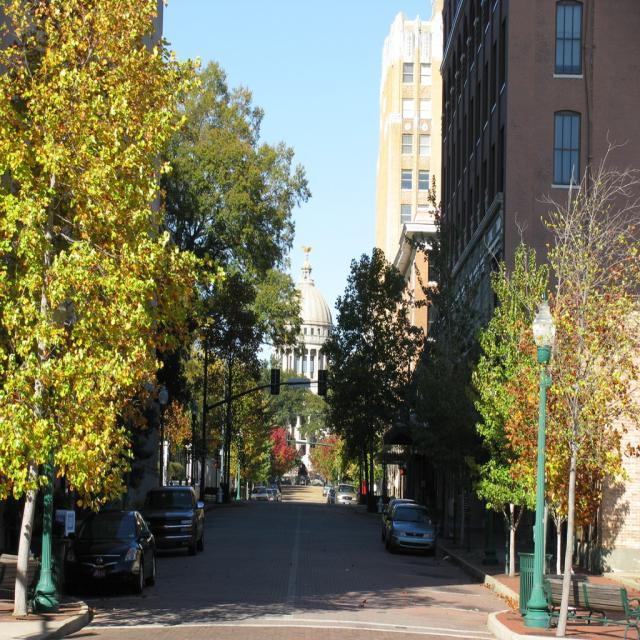car: (385, 499, 436, 552), (331, 482, 357, 506)
